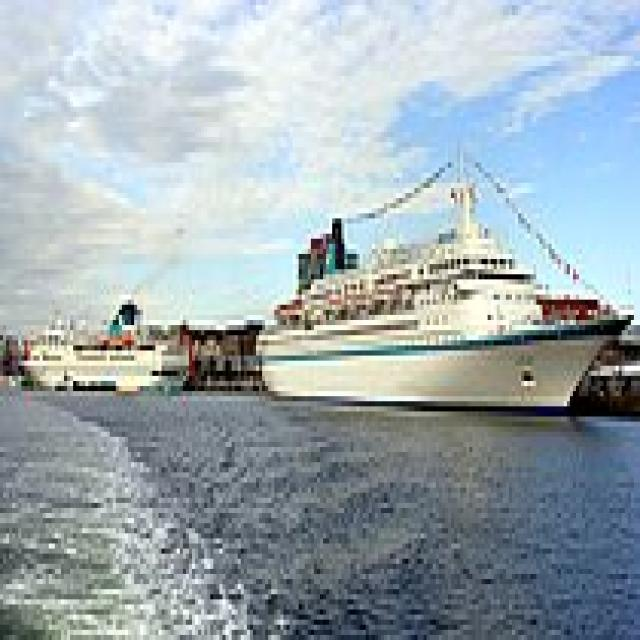Cruise: (250, 132, 631, 411)
